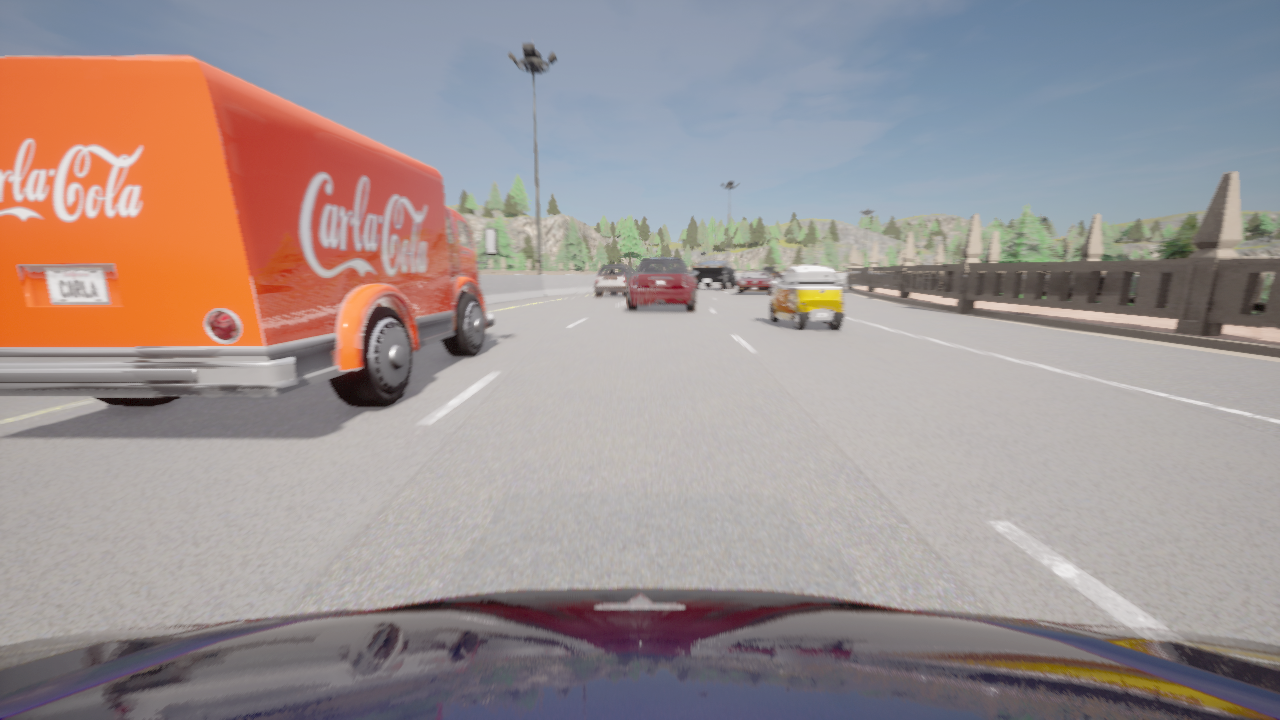cyclist: (0, 55, 498, 407), (0, 588, 1279, 719), (770, 265, 843, 330), (627, 254, 697, 311), (692, 260, 736, 289), (595, 265, 634, 296), (737, 271, 773, 294), (762, 266, 784, 282)
